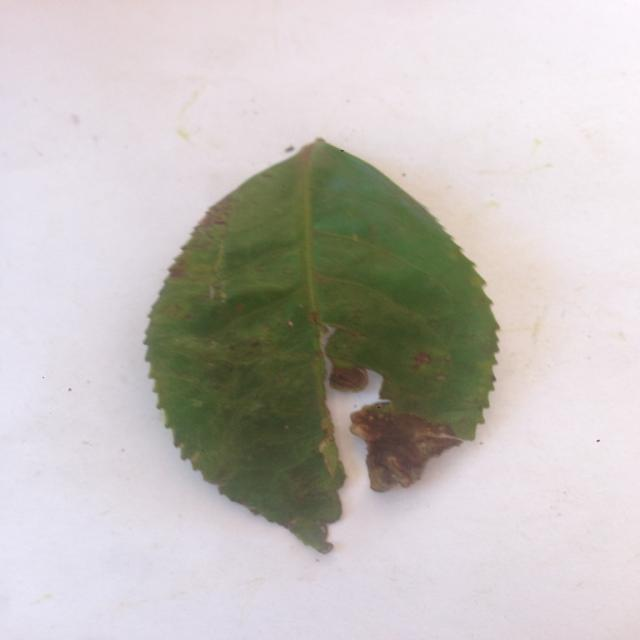Brown Blight: (129, 132, 504, 549)
